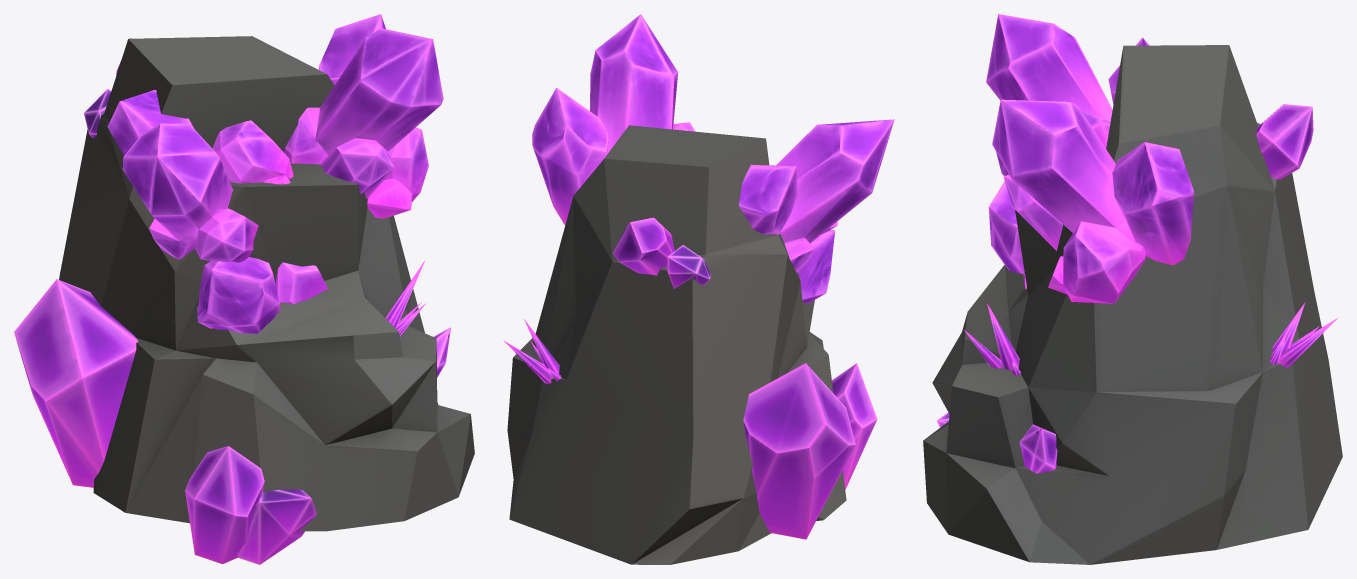
File: boss_weakness.fbx
3 views of the same model, side by side, from view 1: azimuth 30°, elevation 25°; view 2: azimuth 150°, elevation 25°; view 3: azimuth 270°, elevation 25° (orthographic). The views are drawn at different scales.
Visible parts, largest first — view 1: boss_weakness; view 2: boss_weakness; view 3: boss_weakness.
Boxes of the visible parts, x1,y1,x2,y2 form: boss_weakness: [14, 14, 474, 564]; boss_weakness: [503, 14, 894, 564]; boss_weakness: [923, 14, 1342, 564].
Size of the model in its own units: 2.31 by 2.78 by 2.25.
